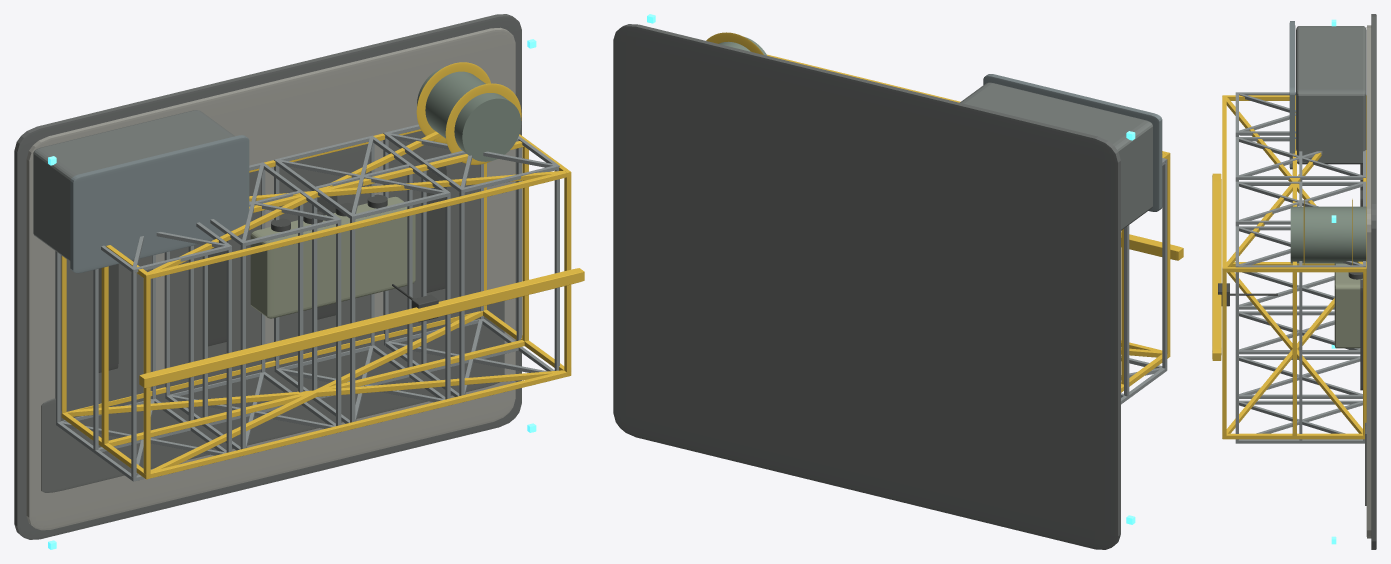
Rendered from b-39-repair-depot-lod1.glb.
3 renders of one model, left to right at view 1: azimuth 30°, elevation 25°; view 2: azimuth 150°, elevation 25°; view 3: azimuth 270°, elevation 25°, orthographic. The views are drawn at different scales.
Visible parts, largest first — view 1: foundation_inner_pad, workshop_roof, foundation, service_lane_road, repair_vehicle_hull, workshop_main_hall, service_bay_floor_0, service_crane_bridge, service_bay_floor_3, service_bay_floor_1, fuel_tank_vessel, service_bay_floor_2 (+39 smaller); view 2: foundation, workshop_main_hall, workshop_roof, service_bay_frame_0_beam_y_2_w, service_bay_frame_0_beam_y_1_w, service_crane_beam_y_2_w, service_crane_bridge; view 3: workshop_main_hall, fuel_tank_vessel, foundation, foundation_inner_pad, repair_vehicle_hull, service_crane_bridge, service_crane_brace_b_-3.4, service_crane_brace_a_-3.4, workshop_roof, service_crane_column_e_s, service_crane_beam_x_2_n, service_crane_beam_y_2_e (+40 smaller).
Boxes of the visible parts, <box> form: foundation_inner_pad: <box>26,27,515,530</box>; workshop_roof: <box>70,135,249,273</box>; foundation: <box>14,14,521,539</box>; service_lane_road: <box>41,301,504,492</box>; repair_vehicle_hull: <box>250,196,415,318</box>; workshop_main_hall: <box>33,110,234,261</box>; service_bay_floor_0: <box>60,255,151,420</box>; service_crane_bridge: <box>139,268,584,387</box>; service_bay_floor_3: <box>388,131,479,340</box>; service_bay_floor_1: <box>170,170,261,394</box>; fuel_tank_vessel: <box>417,66,521,161</box>; service_bay_floor_2: <box>279,144,370,367</box>; foundation: <box>613,24,1120,549</box>; workshop_main_hall: <box>960,82,1152,230</box>; workshop_roof: <box>983,74,1162,211</box>; service_bay_frame_0_beam_y_2_w: <box>1162,158,1167,369</box>; service_bay_frame_0_beam_y_1_w: <box>1124,225,1129,396</box>; service_crane_beam_y_2_w: <box>1164,152,1170,354</box>; service_crane_bridge: <box>1121,232,1183,260</box>; workshop_main_hall: <box>1296,26,1366,164</box>; fuel_tank_vessel: <box>1290,206,1366,263</box>; foundation: <box>1371,14,1376,549</box>; foundation_inner_pad: <box>1366,25,1371,538</box>; repair_vehicle_hull: <box>1334,263,1362,348</box>; service_crane_bridge: <box>1212,173,1221,360</box>; service_crane_brace_b_-3.4: <box>1227,272,1362,433</box>; service_crane_brace_a_-3.4: <box>1226,298,1334,433</box>; workshop_roof: <box>1289,21,1295,169</box>; service_crane_column_e_s: <box>1226,433,1363,439</box>; service_crane_beam_x_2_n: <box>1222,96,1226,272</box>; service_crane_beam_y_2_e: <box>1222,267,1226,438</box>.
Size of what is drawn, in the model's own units: 18 by 14 by 6.07.
